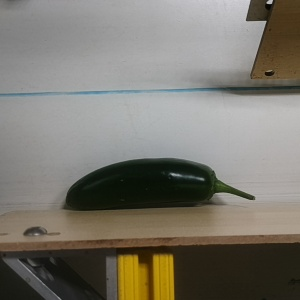Cut Point: (197, 163, 227, 206)
